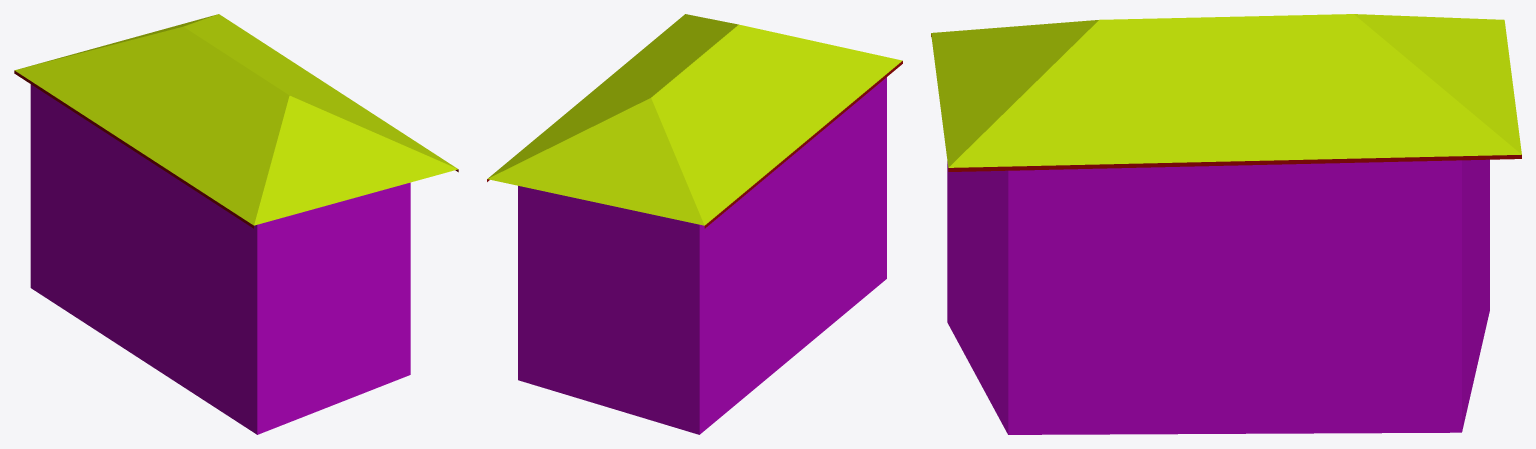
File: vgn_7.glb
3 views of the same model, side by side, from view 1: azimuth 30°, elevation 25°; view 2: azimuth 150°, elevation 25°; view 3: azimuth 270°, elevation 25° (orthographic). The views are drawn at different scales.
Parts seen in each view (by area): view 1: vgn_7; view 2: vgn_7; view 3: vgn_7.
Part boxes in pixels (x1,y1,x2,y2): vgn_7: (14, 14, 458, 434); vgn_7: (487, 14, 902, 434); vgn_7: (931, 14, 1521, 434).
Size of the model in its own units: 9.13 by 10.35 by 15.39.
